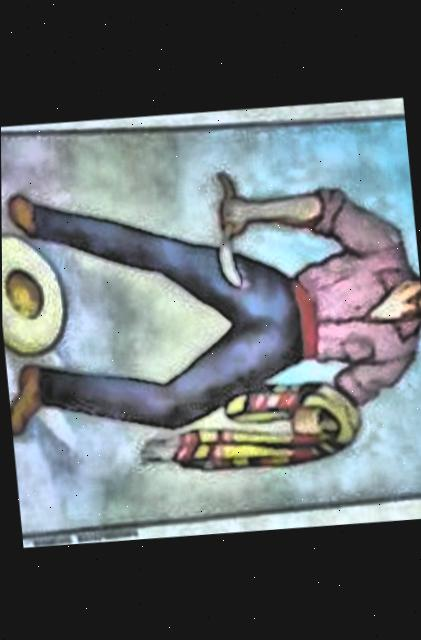El Valiente: (1, 116, 421, 540)
